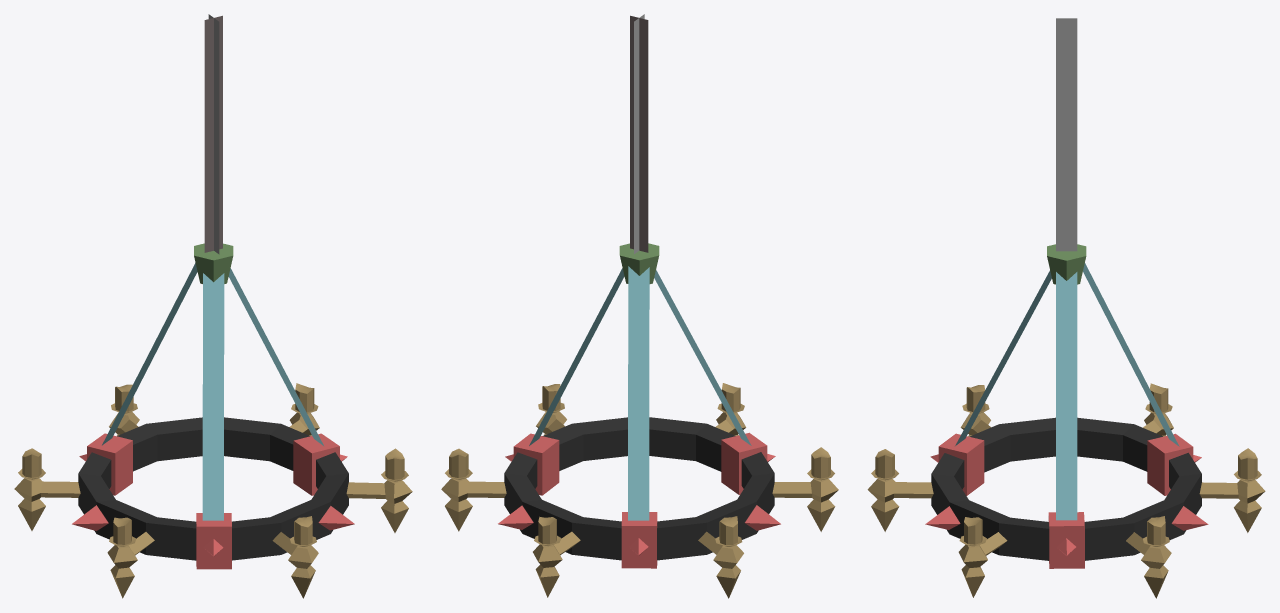
Rendered from candelabro.fbx.
3 views of the same model, side by side, from view 1: azimuth 30°, elevation 25°; view 2: azimuth 150°, elevation 25°; view 3: azimuth 270°, elevation 25° (orthographic).
Parts seen in each view (by area): view 1: pCylinder1, pPlane4, pPlane1, Vela3_pCylinder3, Vela3_pCylinder8, pCube2, Vela3_pCylinder5, Vela3_pCylinder6, pCube3, pCube4, pPlane2, pPlane5 (+4 smaller); view 2: pCylinder1, pPlane5, pPlane1, Vela3_pCylinder5, Vela3_pCylinder4, pCube4, Vela3_pCylinder7, Vela3_pCylinder8, pCube3, pCube2, pPlane2, pPlane3 (+4 smaller); view 3: pCylinder1, pPlane3, pPlane2, Vela3_pCylinder7, Vela3_pCylinder6, pCube3, Vela3_pCylinder3, Vela3_pCylinder4, pCube4, pCube2, pPlane5, pPlane4 (+3 smaller).
Boxes of the visible parts, <box> form: pCylinder1: <box>78,417,348,560</box>; pPlane4: <box>202,273,224,520</box>; pPlane1: <box>204,15,222,252</box>; Vela3_pCylinder3: <box>346,448,412,532</box>; Vela3_pCylinder8: <box>14,448,80,530</box>; pCube2: <box>196,513,231,569</box>; Vela3_pCylinder5: <box>107,517,154,598</box>; Vela3_pCylinder6: <box>272,516,318,598</box>; pCube3: <box>293,433,347,495</box>; pCube4: <box>79,433,132,495</box>; pPlane2: <box>208,14,219,254</box>; pPlane5: <box>102,263,197,445</box>; pCylinder1: <box>504,417,774,560</box>; pPlane5: <box>628,266,649,520</box>; pPlane1: <box>630,15,648,252</box>; Vela3_pCylinder5: <box>772,447,838,531</box>; Vela3_pCylinder4: <box>441,448,506,531</box>; pCube4: <box>621,512,657,568</box>; Vela3_pCylinder7: <box>533,516,580,597</box>; Vela3_pCylinder8: <box>698,516,743,598</box>; pCube3: <box>505,433,559,495</box>; pCube2: <box>721,432,775,494</box>; pPlane2: <box>634,14,644,253</box>; pPlane3: <box>529,268,624,445</box>; pCylinder1: <box>931,417,1201,560</box>; pPlane3: <box>1056,272,1077,520</box>; pPlane2: <box>1056,18,1077,251</box>; Vela3_pCylinder7: <box>1199,448,1265,532</box>; Vela3_pCylinder6: <box>867,449,933,531</box>; pCube3: <box>1048,512,1084,568</box>; Vela3_pCylinder3: <box>958,517,1007,597</box>; Vela3_pCylinder4: <box>1126,516,1171,598</box>; pCube4: <box>1147,433,1201,495</box>; pCube2: <box>930,433,984,495</box>; pPlane5: <box>1083,263,1179,446</box>; pPlane4: <box>955,270,1051,445</box>.
Bounding box in the file's own units: 7.35 × 12.08 × 8.48.
